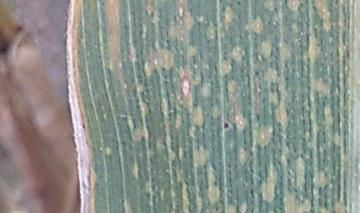tarspot: (222, 119, 230, 131), (81, 122, 87, 130)
